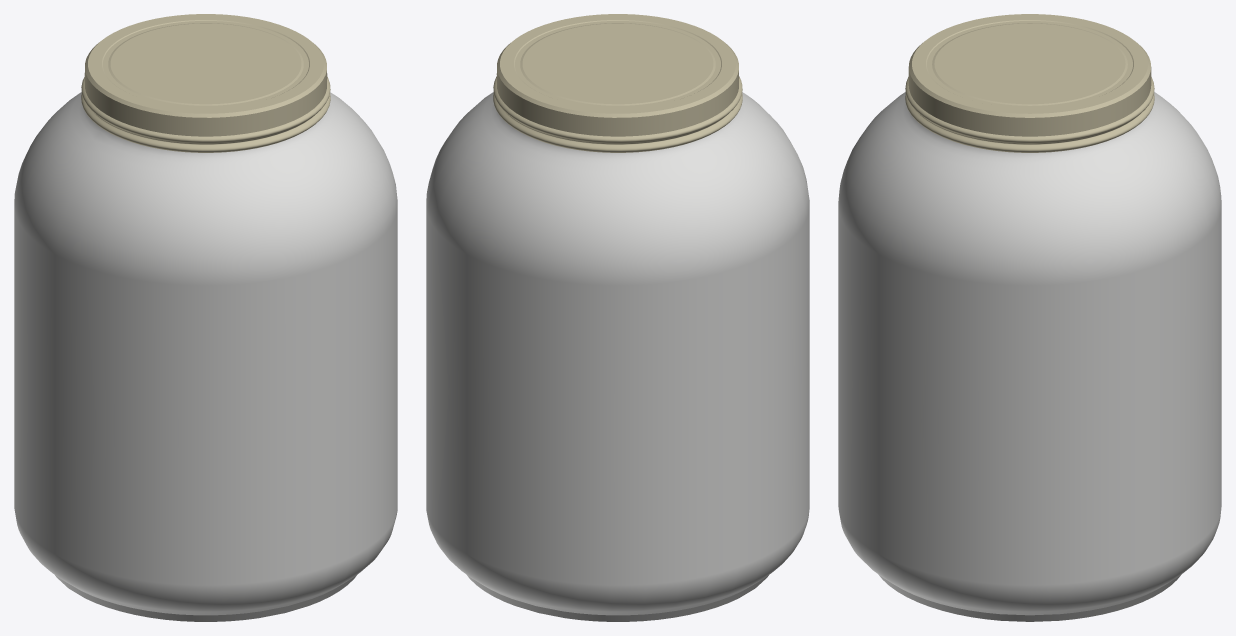
File: 977_bottle.glb
3 views of the same model, side by side, from view 1: azimuth 30°, elevation 25°; view 2: azimuth 150°, elevation 25°; view 3: azimuth 270°, elevation 25° (orthographic).
Parts seen in each view (by area): view 1: Body, huta; view 2: Body, huta; view 3: Body, huta.
Boxes of the visible parts, x1,y1,x2,y2 form: Body: [14, 92, 397, 621]; huta: [81, 14, 330, 152]; Body: [426, 92, 809, 621]; huta: [493, 14, 742, 152]; Body: [838, 92, 1221, 621]; huta: [905, 14, 1154, 152].
Size of the model in its own units: 0.0628 by 0.0887 by 0.0628.
